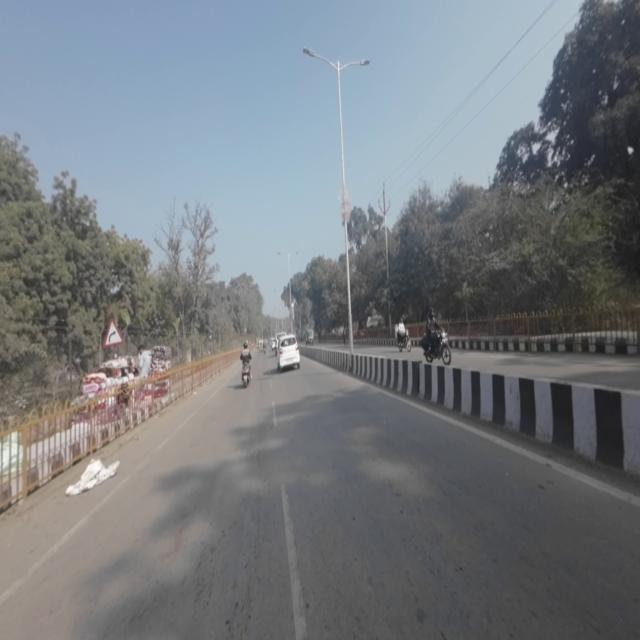Garbage: (67, 454, 121, 499)
